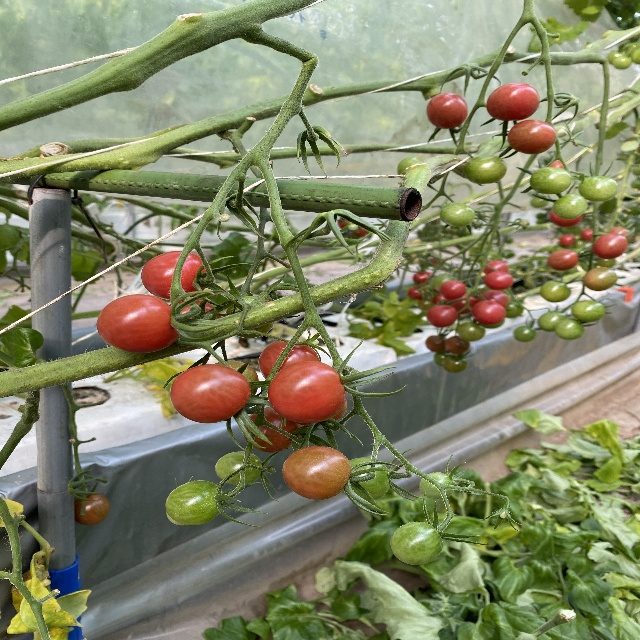l_fully_ripened: (269, 361, 347, 423), (170, 363, 250, 423), (97, 294, 178, 353), (141, 250, 211, 301), (243, 407, 301, 452), (259, 340, 321, 380), (487, 83, 540, 121), (508, 120, 558, 155), (426, 93, 468, 129)
l_green: (166, 480, 223, 525), (390, 522, 443, 565), (344, 458, 390, 499), (216, 452, 261, 485), (466, 156, 506, 184), (531, 167, 571, 194), (579, 175, 618, 202), (439, 204, 475, 229), (420, 473, 454, 498), (554, 194, 587, 219)
l_half_ripened: (283, 447, 351, 500)
